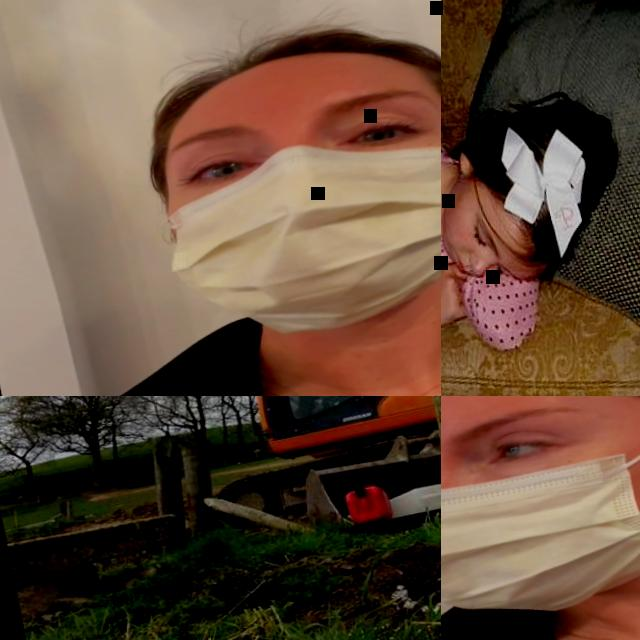Mask: (154, 127, 441, 357), (441, 399, 640, 636)
NO-Hardhat: (134, 6, 441, 141), (460, 93, 606, 283)
NO-Mask: (441, 206, 476, 277)
NO-Safety Vest: (38, 286, 441, 396), (441, 536, 640, 640)
Person: (0, 0, 441, 396), (441, 62, 640, 396), (441, 396, 640, 640), (278, 396, 361, 420)
vehicle: (0, 396, 441, 594)
